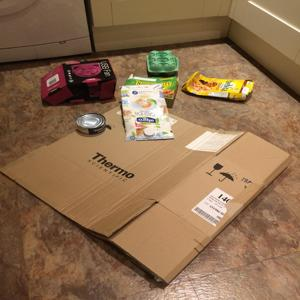cardboard: (1, 95, 289, 290), (36, 61, 122, 103), (118, 85, 178, 141), (182, 66, 258, 99), (146, 42, 187, 78), (123, 73, 182, 94)
metal: (71, 104, 106, 137)
